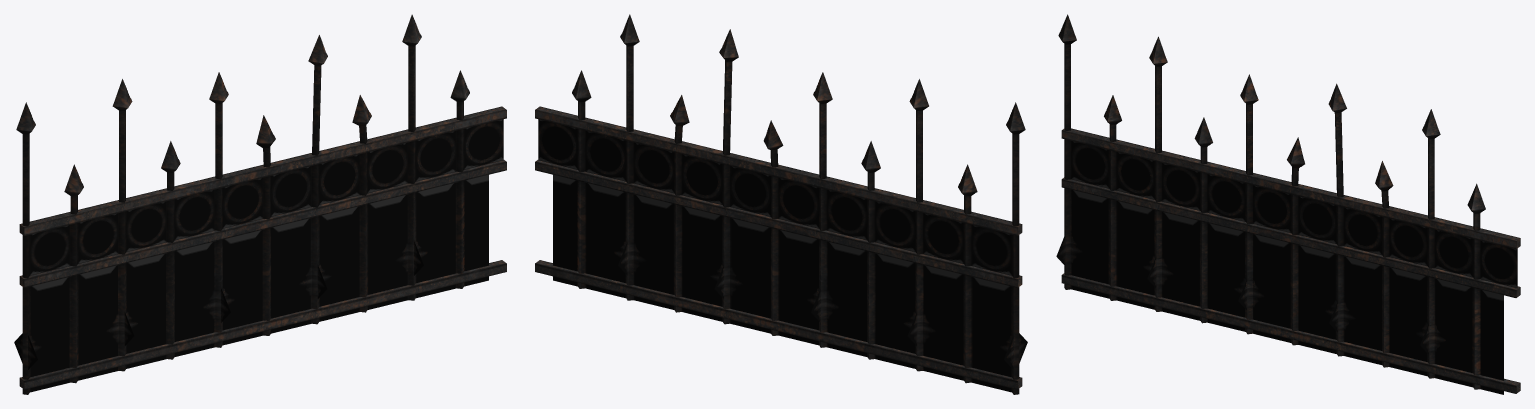
Rendered from Iron Fence Enclosure Small.FBX.
3 renders of one model, left to right at view 1: azimuth 30°, elevation 25°; view 2: azimuth 150°, elevation 25°; view 3: azimuth 330°, elevation 25°, orthographic. The views are drawn at different scales.
Parts seen in each view (by area): view 1: Iron Fence Enclosure Small; view 2: Iron Fence Enclosure Small; view 3: Iron Fence Enclosure Small.
Boxes of the visible parts, x1=… form: Iron Fence Enclosure Small: x1=14, y1=14, x2=506, y2=394; Iron Fence Enclosure Small: x1=535, y1=14, x2=1027, y2=394; Iron Fence Enclosure Small: x1=1056, y1=14, x2=1520, y2=394.
Bounding box in the file's own units: 20.23 × 11.54 × 1.71.
2 materials, 2 textured.
